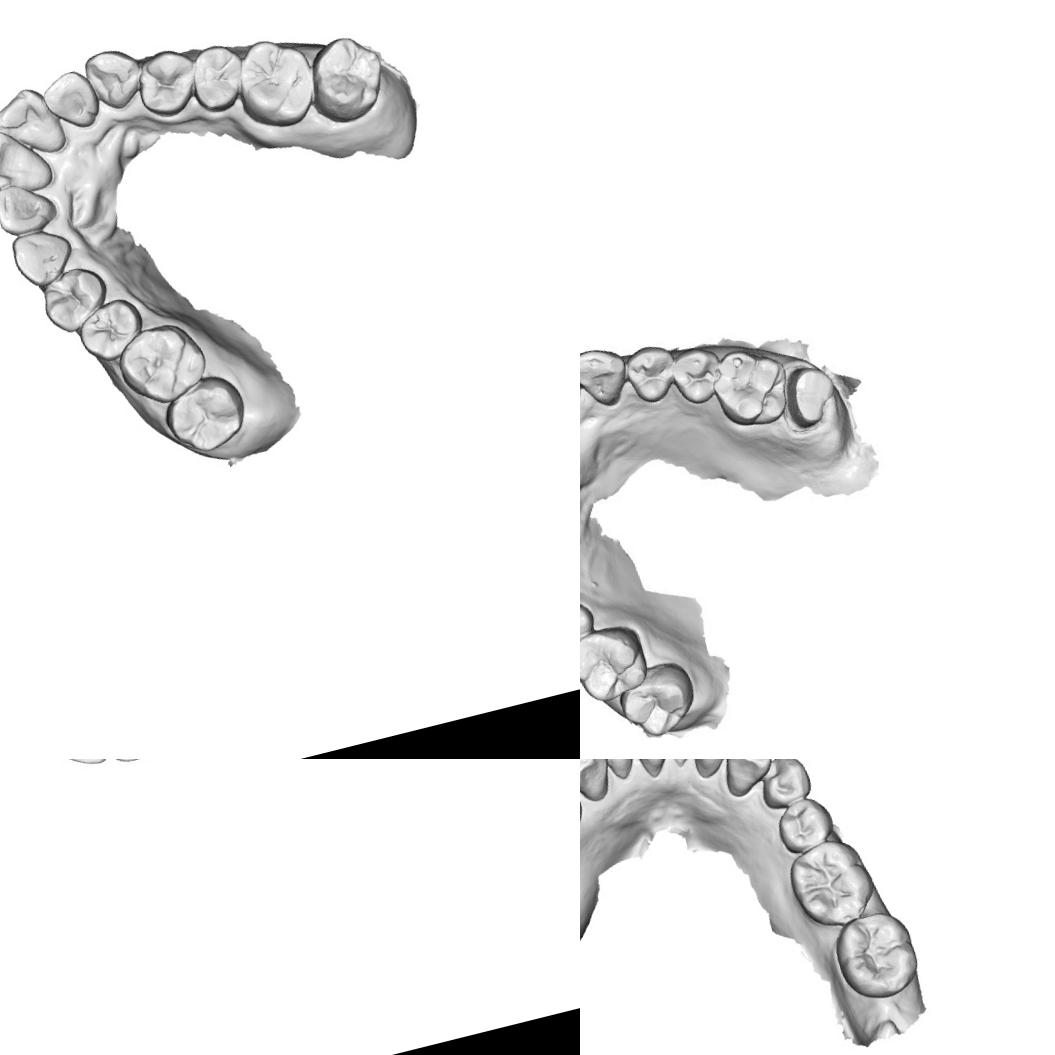canine: (80, 40, 150, 115), (7, 222, 79, 292), (580, 338, 633, 413), (712, 759, 780, 799), (580, 759, 617, 810)
crown: (776, 356, 847, 432)
incisor: (0, 79, 70, 166), (36, 65, 104, 136), (0, 118, 55, 202), (0, 174, 61, 239), (582, 759, 645, 784), (679, 759, 750, 781), (626, 759, 686, 780), (52, 759, 112, 772)
molar: (226, 29, 324, 138), (825, 903, 925, 1008), (782, 832, 882, 936), (110, 315, 214, 413), (298, 28, 394, 130), (156, 367, 252, 460), (610, 655, 702, 746), (706, 338, 793, 434), (580, 618, 653, 710)
premolar: (35, 260, 116, 338), (71, 293, 151, 368), (130, 44, 204, 123), (182, 39, 252, 117), (661, 340, 728, 410), (770, 793, 838, 859), (621, 340, 679, 408), (751, 759, 815, 814), (580, 591, 600, 660)
